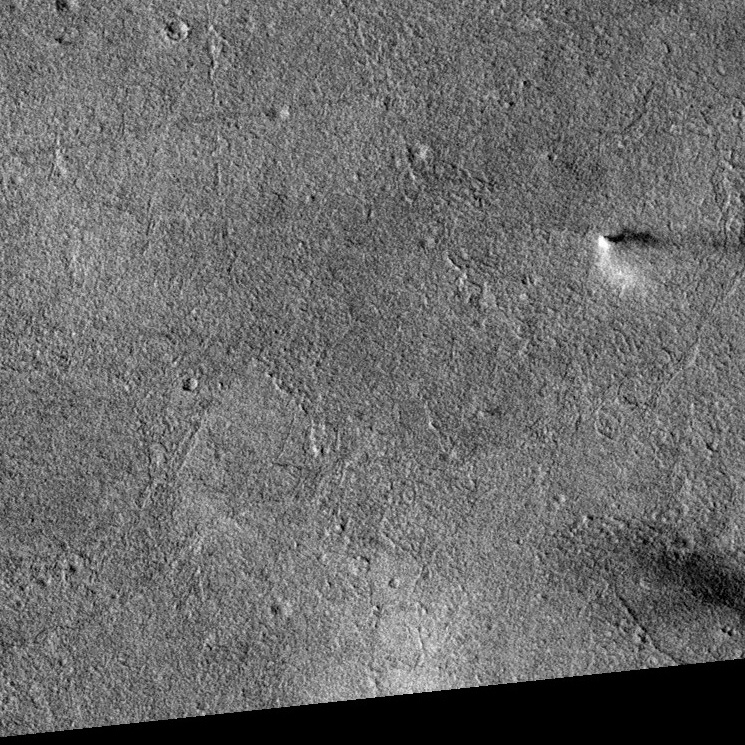dust_devil: (593, 228, 680, 297)
